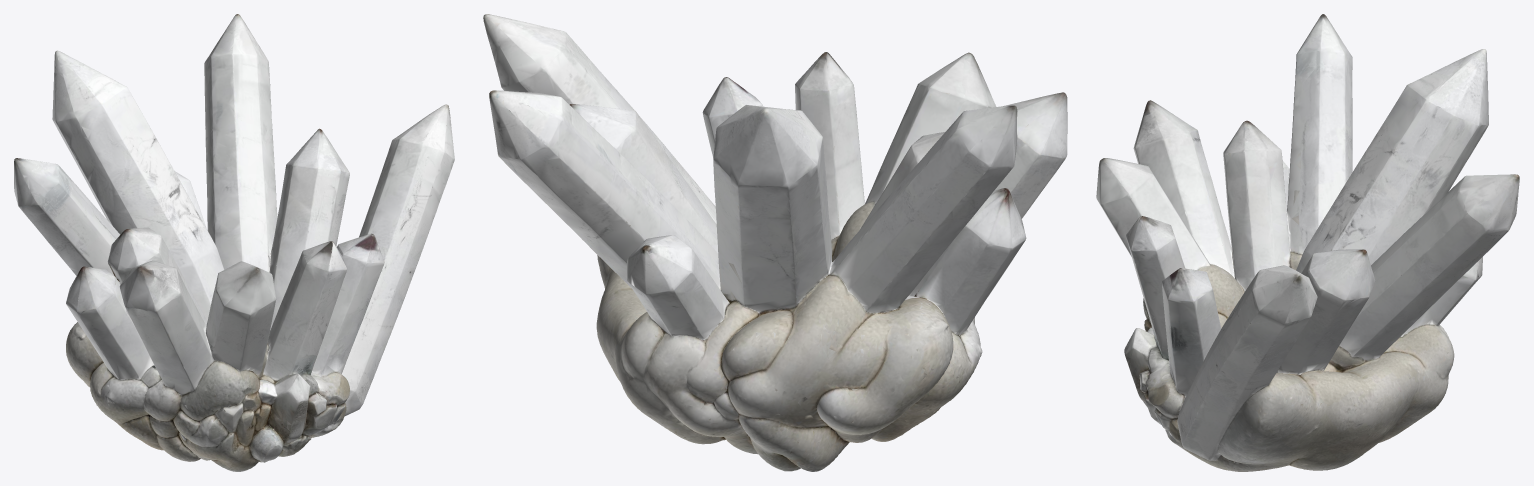
File: quartz.glb
3 views of the same model, side by side, from view 1: azimuth 30°, elevation 25°; view 2: azimuth 150°, elevation 25°; view 3: azimuth 270°, elevation 25° (orthographic). The views are drawn at different scales.
Visible parts, largest first — view 1: quartz; view 2: quartz; view 3: quartz.
Part boxes in pixels (bbox=[...]): quartz: bbox=[14, 14, 454, 471]; quartz: bbox=[483, 14, 1067, 471]; quartz: bbox=[1096, 14, 1519, 471].
Size of the model in its own units: 1 by 0.7724 by 0.813.
Materials: 1 (1 with a texture image).
